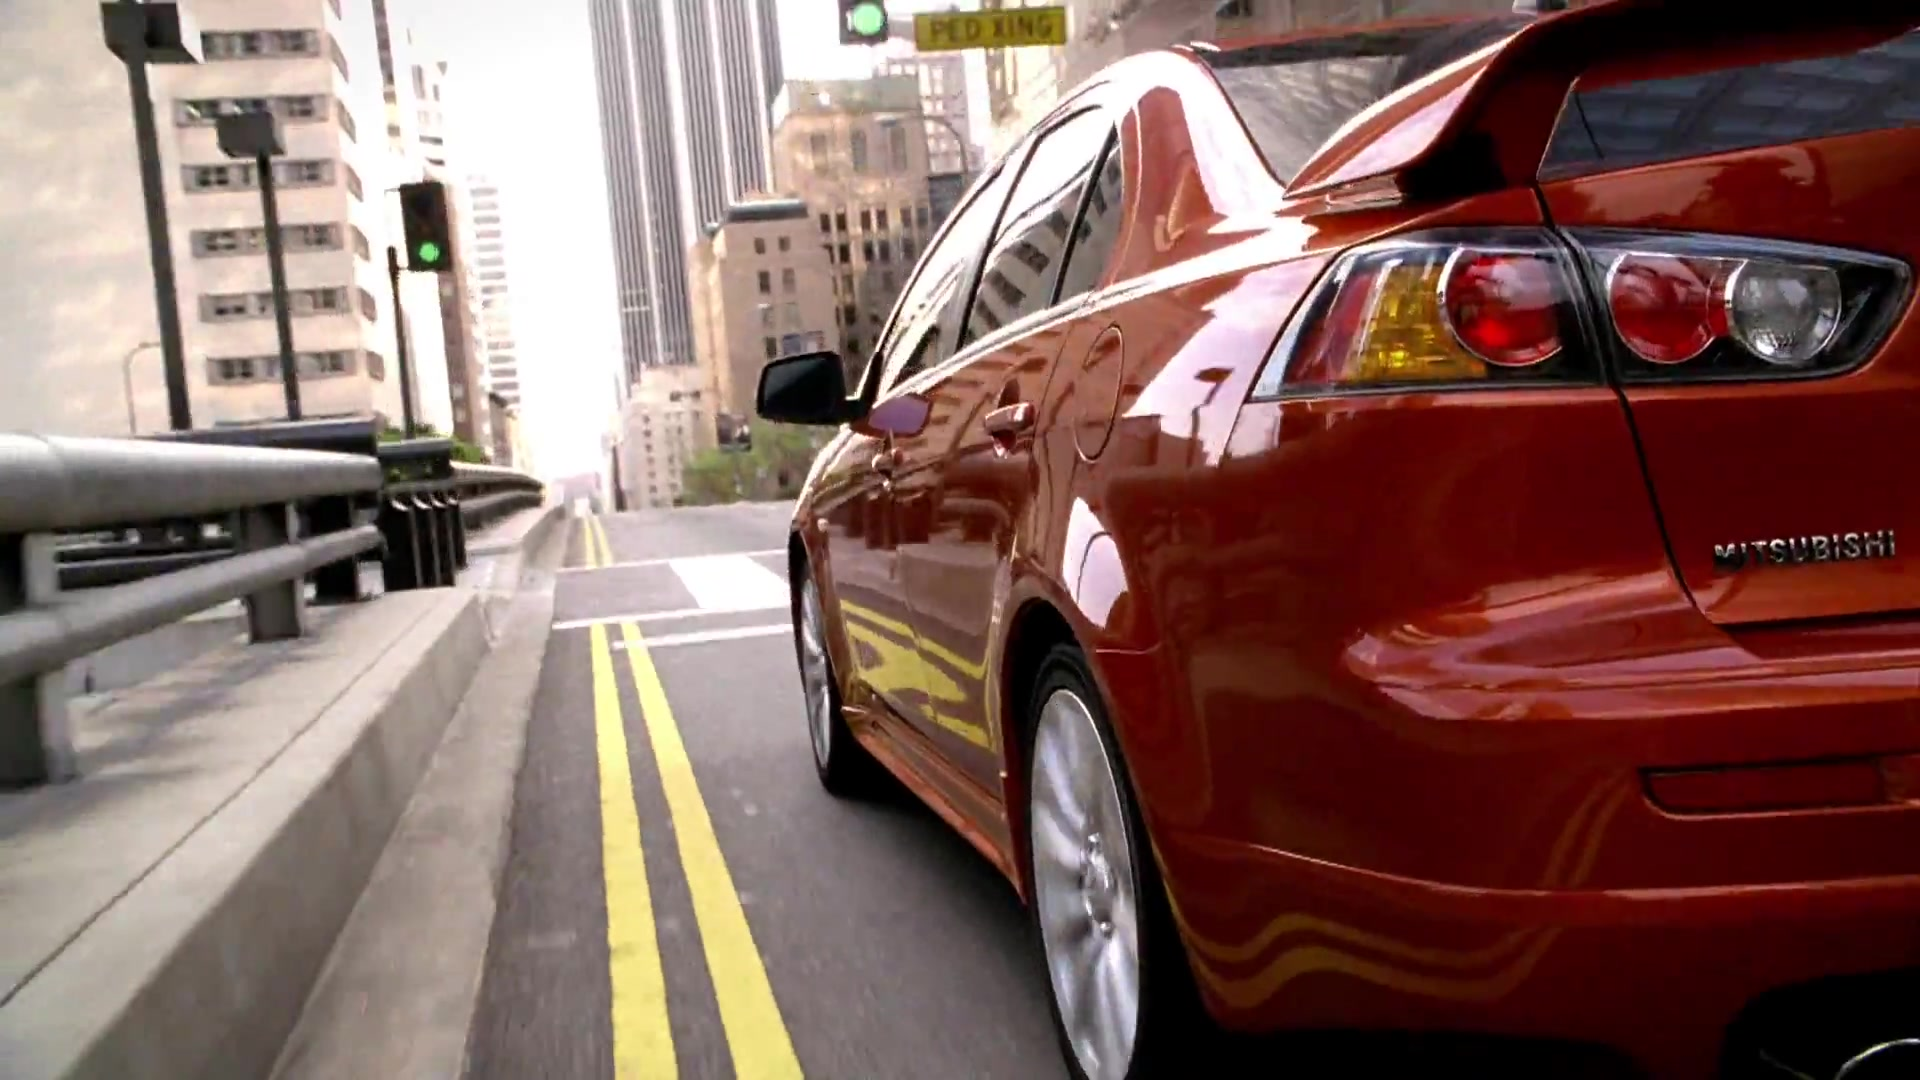car: (748, 3, 1920, 1080)
